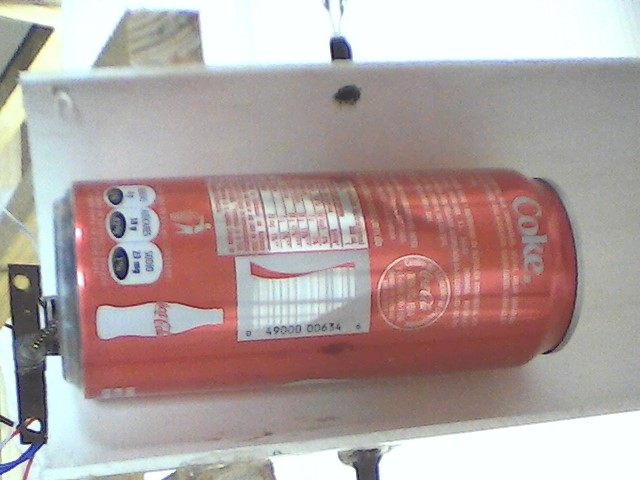lata: (49, 163, 597, 410)
